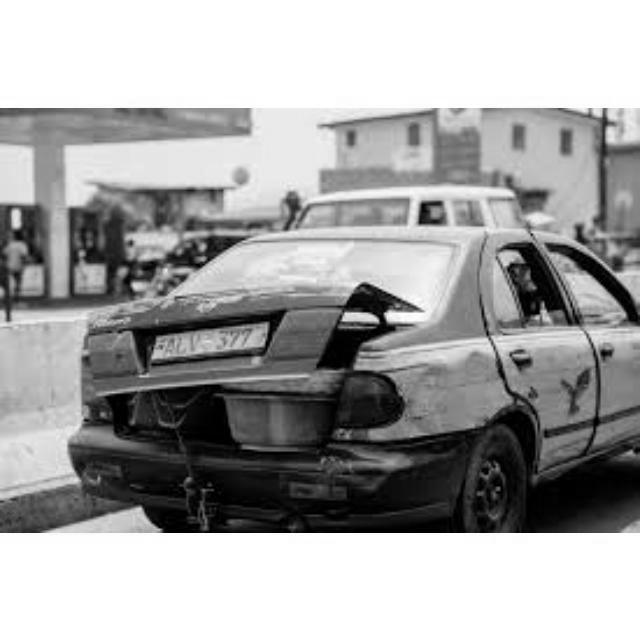boot-dent: (98, 282, 373, 447)
quaterpanel-dent: (403, 335, 493, 448)
rear-bumper-dent: (313, 455, 408, 501)
